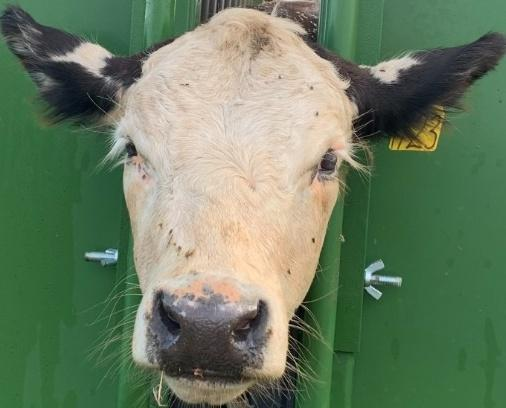muzzles: (121, 280, 294, 407)
